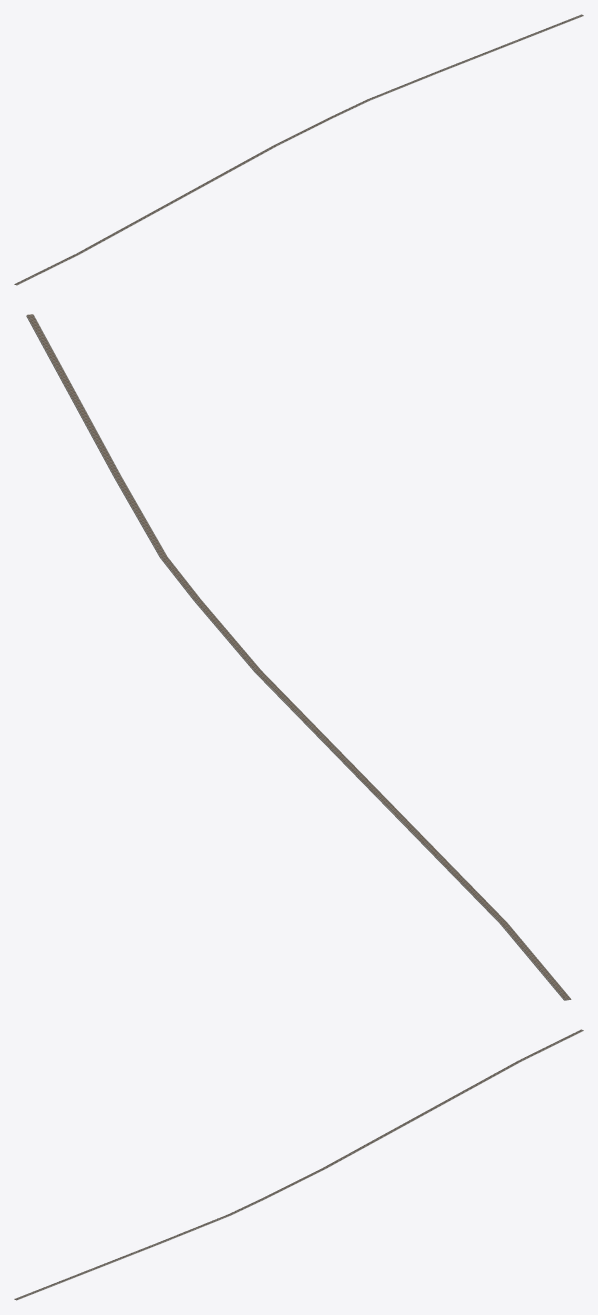
Rendered from rail_01208.glb.
3 renders of one model, top to bottom at view 1: azimuth 90°, elevation 25°; view 2: azimuth 150°, elevation 25°; view 3: azimuth 270°, elevation 25°, orthographic. The views are drawn at different scales.
Parts seen in each view (by area): view 1: Ballast, Sleepers, Rails; view 2: Sleepers, Ballast, Rails; view 3: Ballast, Sleepers, Rails.
Part boxes in pixels (x1,y1,x2,y2): Ballast: [14, 15, 583, 285]; Sleepers: [15, 14, 582, 284]; Rails: [15, 14, 582, 283]; Sleepers: [27, 314, 570, 999]; Ballast: [26, 315, 571, 1000]; Rails: [28, 314, 569, 999]; Ballast: [15, 1030, 583, 1300]; Sleepers: [14, 1029, 583, 1299]; Rails: [16, 1030, 582, 1299].
Size of the model in its own units: 475 by 0.48 by 422.
